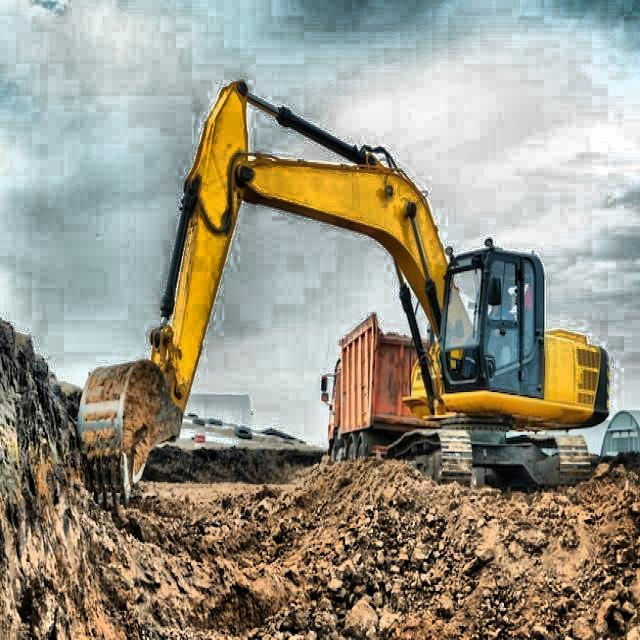excavator: (73, 75, 612, 512)
